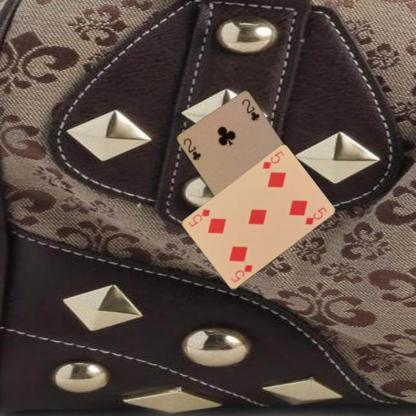2c: (181, 136, 202, 162)
5d: (260, 148, 286, 171), (228, 262, 254, 284)
